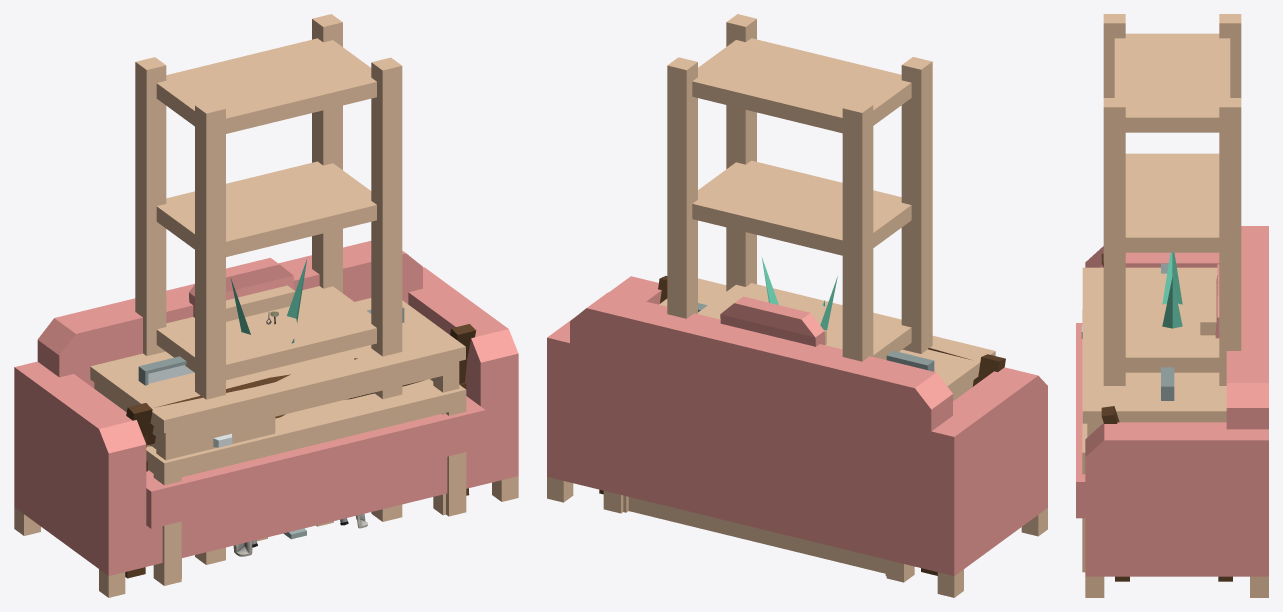
Rendered from campus.glb.
3 renders of one model, left to right at view 1: azimuth 30°, elevation 25°; view 2: azimuth 150°, elevation 25°; view 3: azimuth 270°, elevation 25°, orthographic. The views are drawn at different scales.
Parts seen in each view (by area): view 1: loungeSofa(Clone), bookcaseOpen(Clone), desk(Clone), table(Clone), Bench_1, chair, chair(Clone), drawer, televisionModern(Clone), plant; view 2: loungeSofa(Clone), bookcaseOpen(Clone), desk(Clone), chair, Bench_1, table(Clone); view 3: bookcaseOpen(Clone), loungeSofa(Clone), desk(Clone), plant, chair(Clone), televisionModern(Clone), table(Clone), Bench_1, chair.
Part boxes in pixels (x1,y1,x2,y2): loungeSofa(Clone): (14, 241, 518, 597); bookcaseOpen(Clone): (135, 14, 402, 564); desk(Clone): (90, 298, 465, 578); table(Clone): (146, 379, 466, 585); Bench_1: (125, 324, 476, 578); chair: (189, 257, 294, 317); chair(Clone): (226, 285, 333, 541); drawer: (182, 420, 262, 456); televisionModern(Clone): (138, 307, 404, 385); plant: (230, 258, 307, 343); loungeSofa(Clone): (547, 276, 1047, 597); bookcaseOpen(Clone): (667, 14, 932, 361); desk(Clone): (623, 278, 995, 576); chair: (720, 296, 825, 346); Bench_1: (599, 276, 1005, 575); table(Clone): (603, 491, 914, 582); bookcaseOpen(Clone): (1103, 14, 1241, 385); loungeSofa(Clone): (1076, 226, 1268, 597); desk(Clone): (1082, 267, 1226, 436); plant: (1162, 252, 1182, 328); chair(Clone): (1200, 283, 1216, 335); televisionModern(Clone): (1161, 263, 1174, 400); table(Clone): (1082, 309, 1087, 572); Bench_1: (1101, 253, 1232, 581); chair: (1215, 264, 1219, 338).
Bounding box in the file's own units: 1.9 × 2 × 0.7949.
12 materials, 3 textured.
